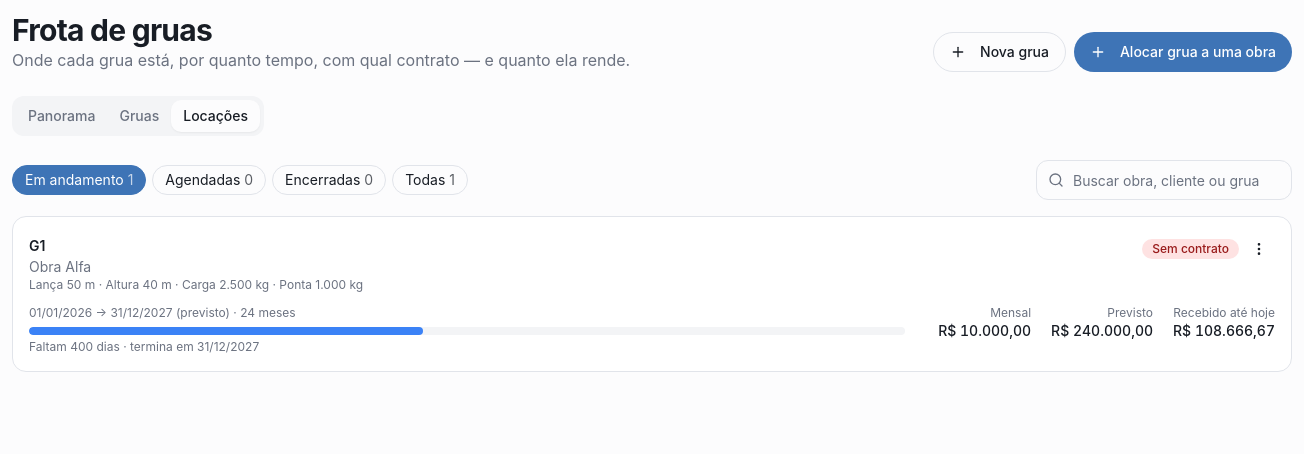
it: página Frota › a aba vem do endereço (?aba=) e trocar de aba funciona
The width and height of the screenshot is (1304, 454).
Expected: the list named "Locações" is shown, [12,216,1292,372]
Press the mouse on the tab "Gruas": (139, 116) [107,100,171,132]
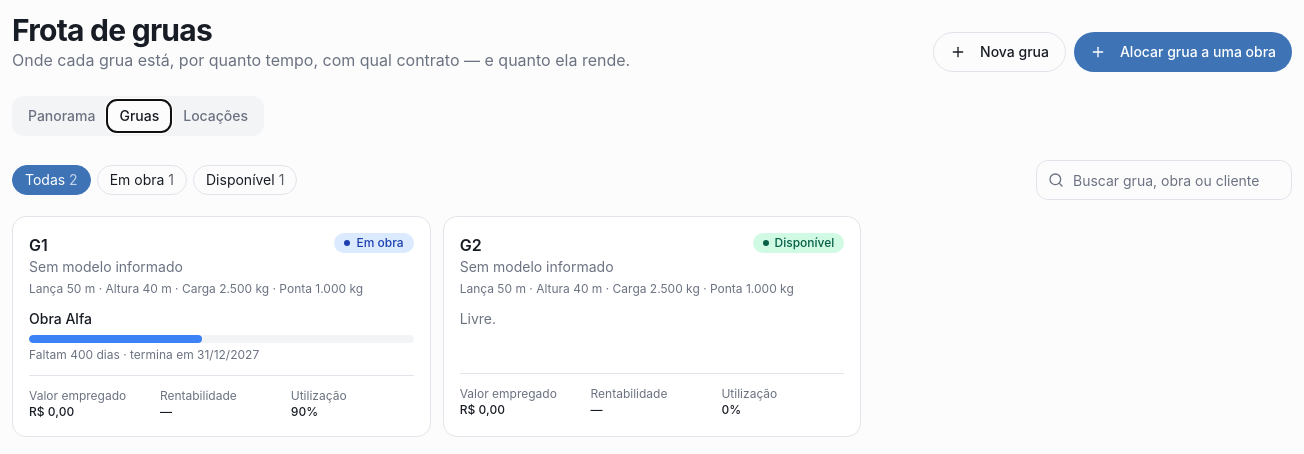
Result: the list named "Gruas" is shown at [12,216,861,437]
